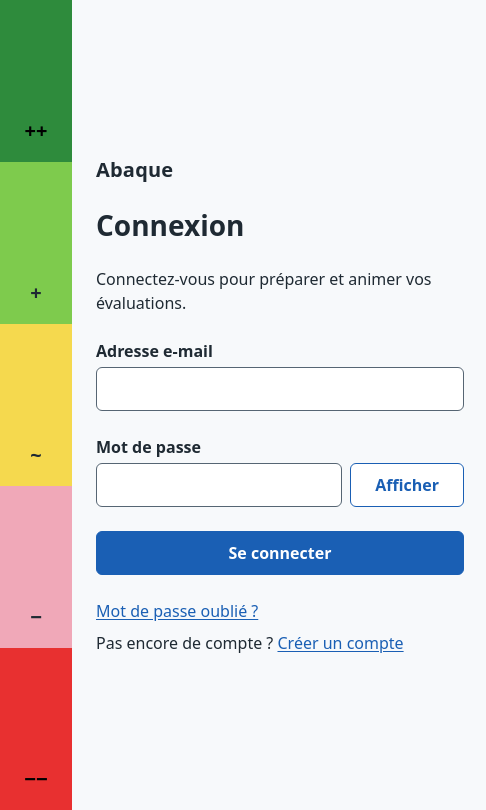
Test case: authentication flow › shows a generic French error on bad credentials and moves focus to it
Type "x@example.com" into the field labelled "Adresse e-mail" at [280, 389], box [96,367,464,411]
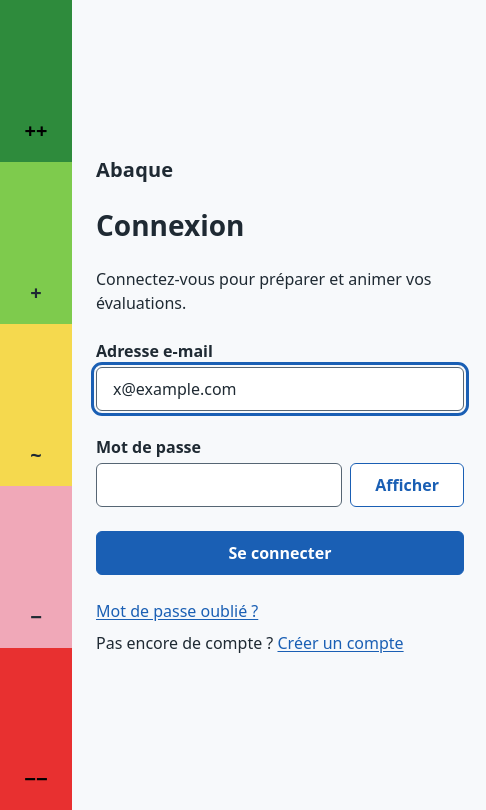
Type "wrong-password" into the password field labelled "Mot de passe" at [219, 485], box [96,463,342,507]
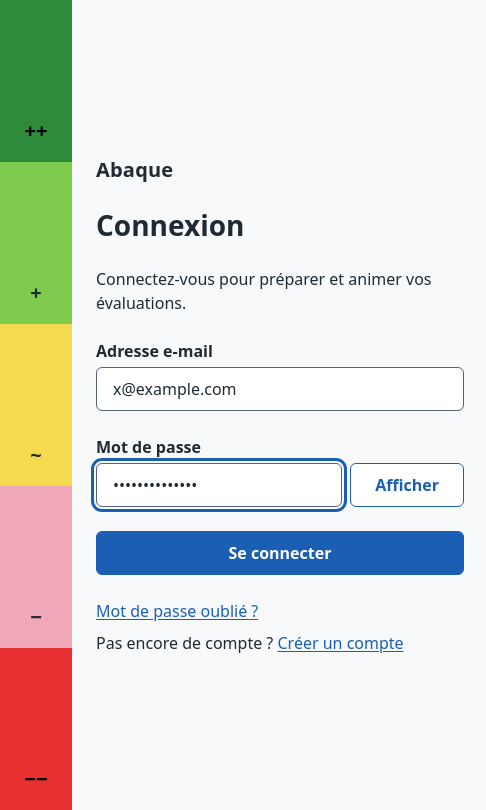
Click the button "Se connecter" at [280, 553], box [96,531,464,575]
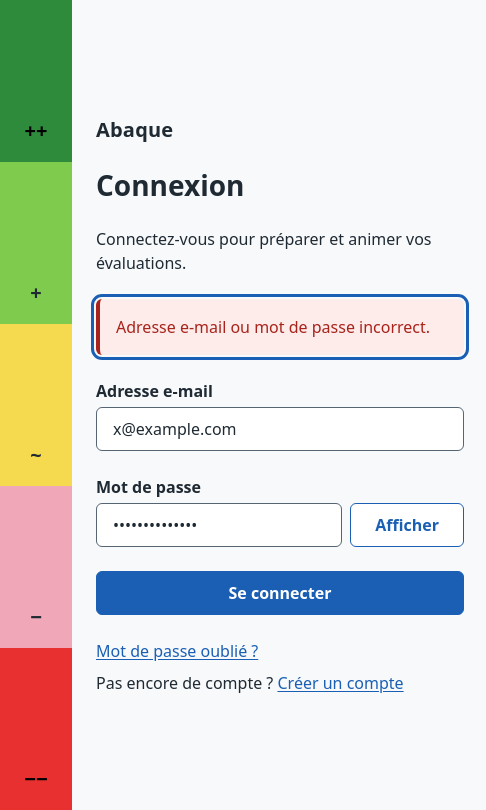
Result: the message reads "Adresse e-mail ou mot de passe incorrect." at [116,316,430,338]
